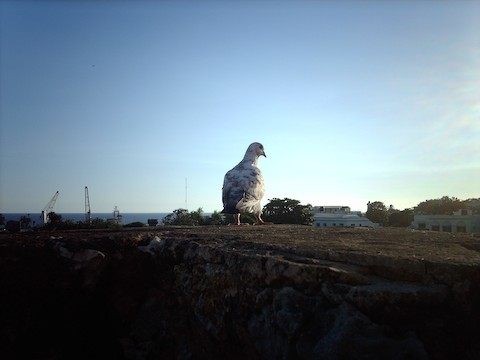pigeon: (216, 138, 275, 229)
